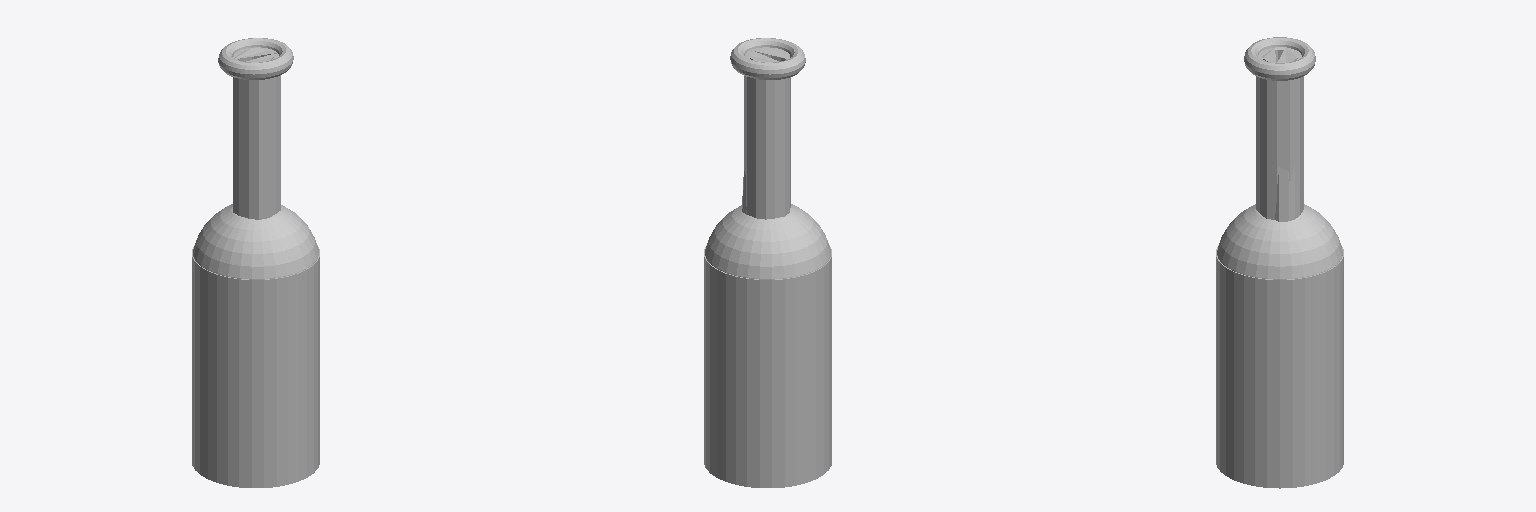
File: Bottle.obj
The picture shows the model from 3 angles: view 1: azimuth 30°, elevation 25°; view 2: azimuth 150°, elevation 25°; view 3: azimuth 270°, elevation 25°; orthographic projection.
Parts seen in each view (by area): view 1: Cylinder; view 2: Cylinder; view 3: Cylinder.
Boxes of the visible parts, x1,y1,x2,y2 form: Cylinder: [192, 38, 319, 487]; Cylinder: [704, 38, 831, 487]; Cylinder: [1216, 37, 1343, 488].
Size of the model in its own units: 2 by 7.03 by 2.